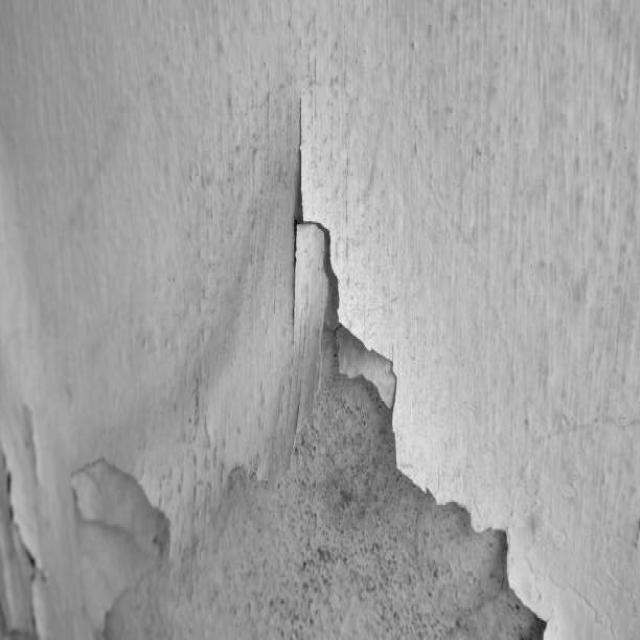peeling paint: (0, 64, 556, 639)
